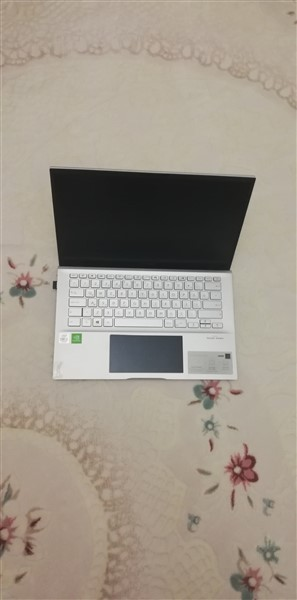laptop: (46, 166, 245, 386)
